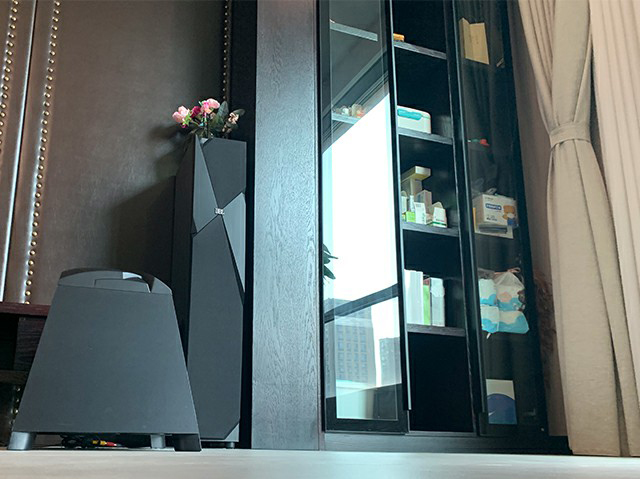cabinet: (250, 1, 549, 453)
curtain: (516, 1, 640, 458)
